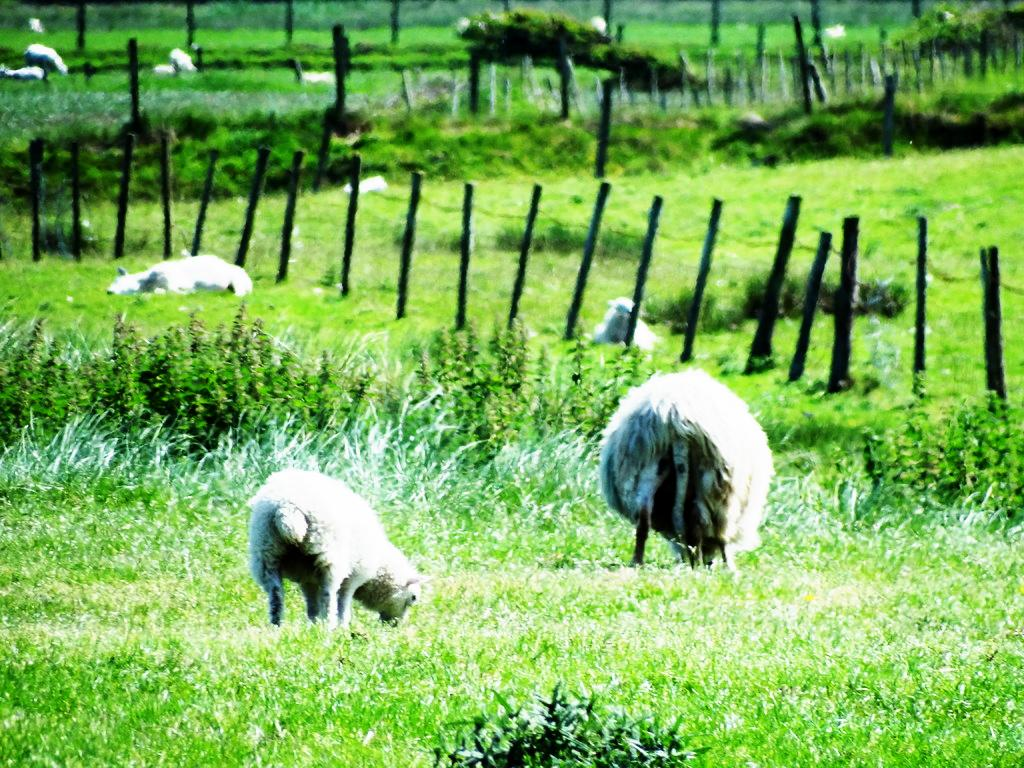Sheep: (594, 366, 774, 578), (246, 466, 430, 627), (586, 297, 659, 353)
